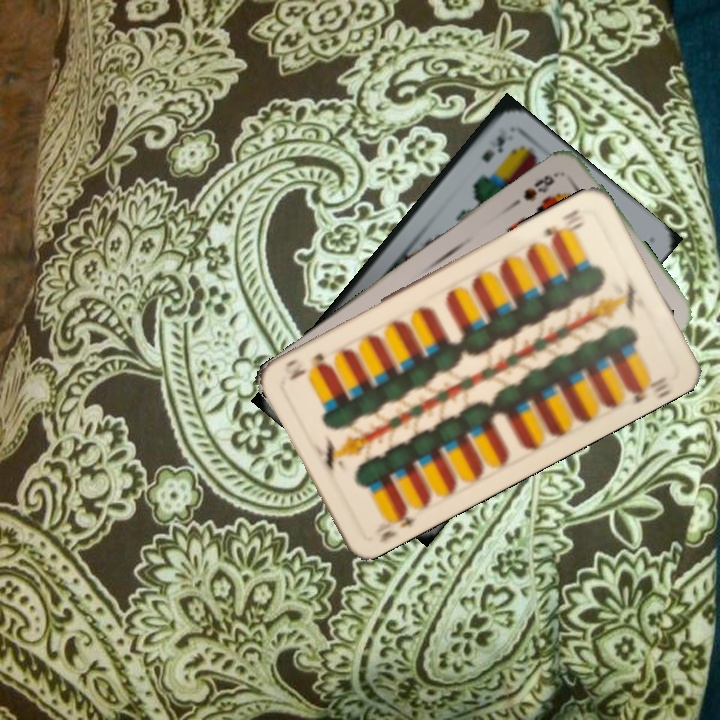E10: (371, 502, 419, 546), (538, 205, 587, 246)
EK: (477, 131, 508, 165)
S8: (519, 168, 562, 204)
